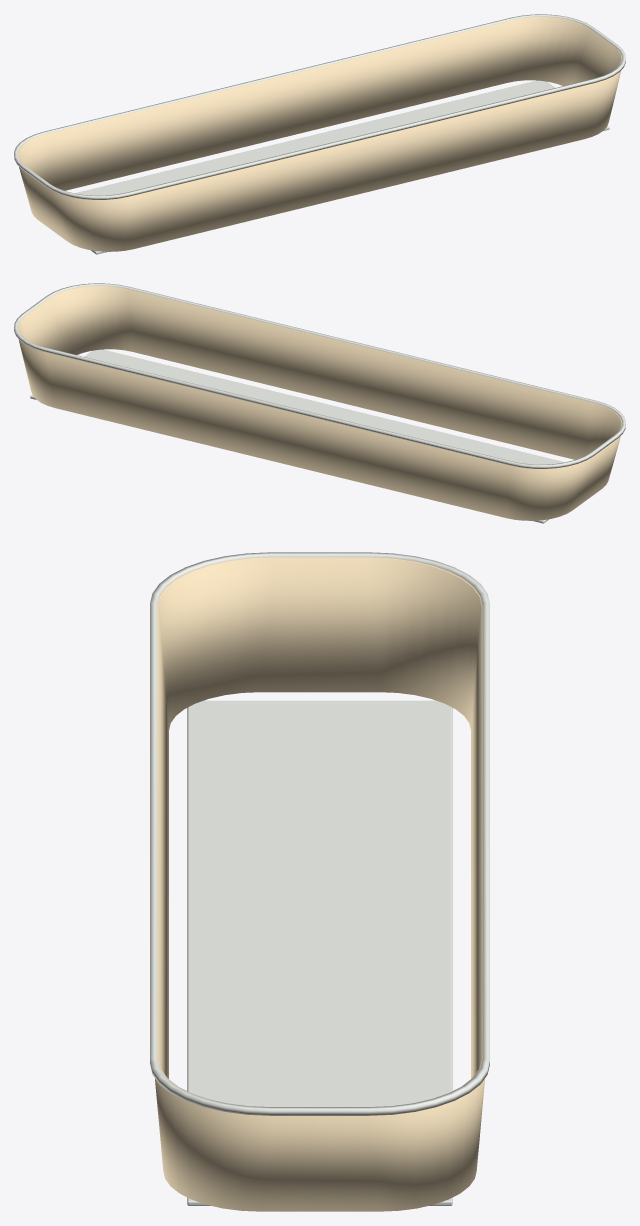
3 renders of one model, top to bottom at view 1: azimuth 30°, elevation 25°; view 2: azimuth 150°, elevation 25°; view 3: azimuth 270°, elevation 25°, orthographic. The views are drawn at different scales.
Parts seen in each view (by area): view 1: continuous rounded tapered body, body bottom, rounded rolled rim; view 2: continuous rounded tapered body, body bottom, rounded rolled rim; view 3: body bottom, continuous rounded tapered body, rounded rolled rim.
Boxes of the visible parts, <box> form: continuous rounded tapered body: <box>17,17,622,251</box>; body bottom: <box>75,80,609,254</box>; rounded rolled rim: <box>14,14,625,199</box>; continuous rounded tapered body: <box>17,286,622,520</box>; body bottom: <box>30,349,564,523</box>; rounded rolled rim: <box>14,283,625,468</box>; body bottom: <box>187,700,452,1205</box>; continuous rounded tapered body: <box>155,557,484,1211</box>; rounded rolled rim: <box>150,552,489,1115</box>.
Size of the model in its own units: 0.5967 by 0.0622 by 0.1536.
Materials: 2 (1 with a texture image).
